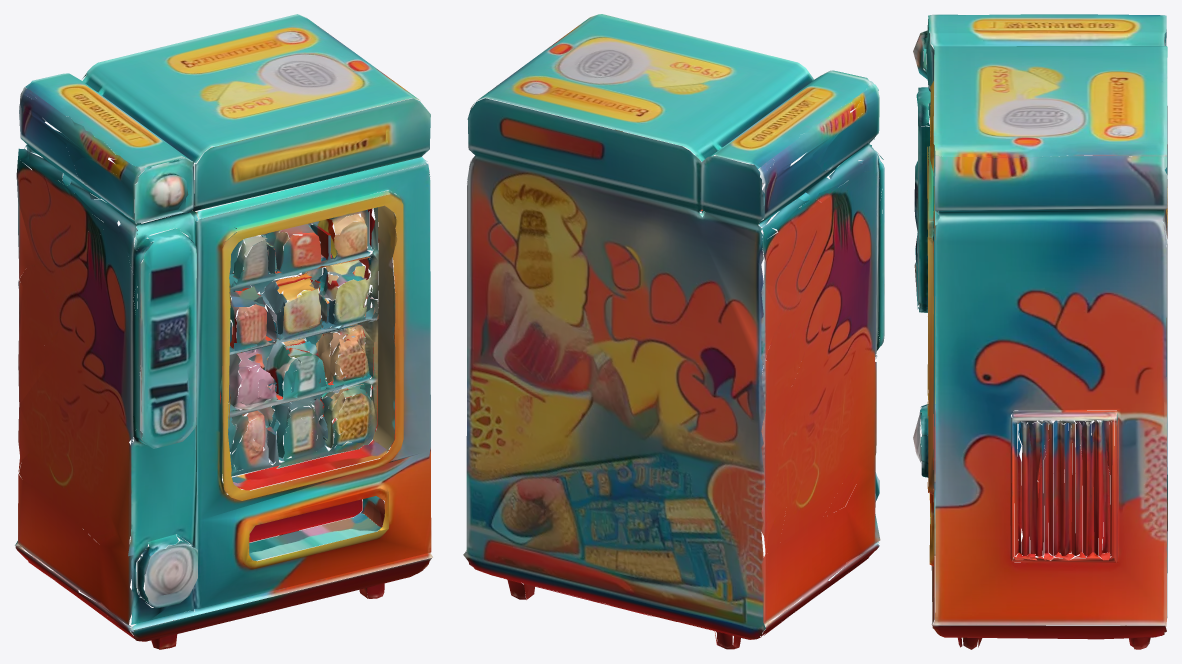
File: vending-machine-transformed.glb
3 renders of one model, left to right at view 1: azimuth 30°, elevation 25°; view 2: azimuth 150°, elevation 25°; view 3: azimuth 270°, elevation 25°, orthographic.
Visible parts, largest first — view 1: tmpa9nqnpv_.ply; view 2: tmpa9nqnpv_.ply; view 3: tmpa9nqnpv_.ply.
Boxes of the visible parts, box(x1,y1,x2,y2) form: tmpa9nqnpv_.ply: box(15, 14, 432, 649); tmpa9nqnpv_.ply: box(463, 14, 884, 649); tmpa9nqnpv_.ply: box(913, 14, 1167, 649).
Bounding box in the file's own units: 1.28 × 1.96 × 0.8836.
Materials: 1 (1 with a texture image).
